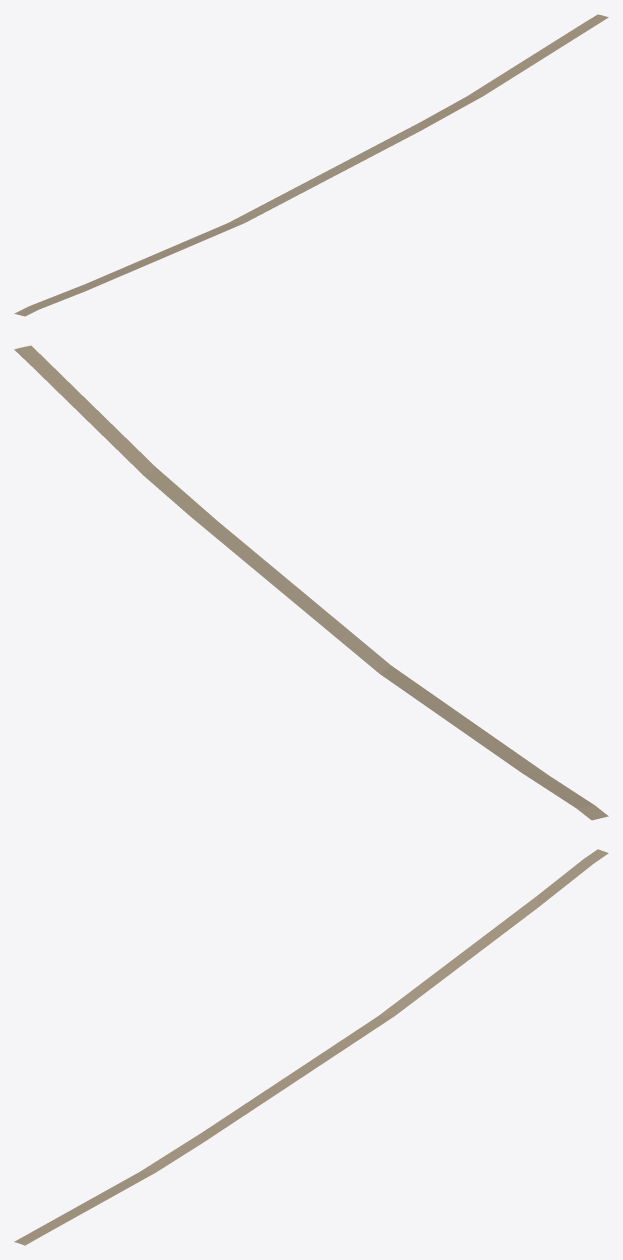
The model's file is farm_13_-1_track.glb.
3 renders of one model, top to bottom at view 1: azimuth 90°, elevation 25°; view 2: azimuth 150°, elevation 25°; view 3: azimuth 270°, elevation 25°, orthographic. The views are drawn at different scales.
Parts seen in each view (by area): view 1: geometry_0; view 2: geometry_0; view 3: geometry_0.
Part boxes in pixels (bbox=[...]): geometry_0: bbox=[14, 14, 608, 316]; geometry_0: bbox=[14, 345, 608, 820]; geometry_0: bbox=[14, 849, 608, 1245].
Size of the model in its own units: 198 by 13.62 by 142.
